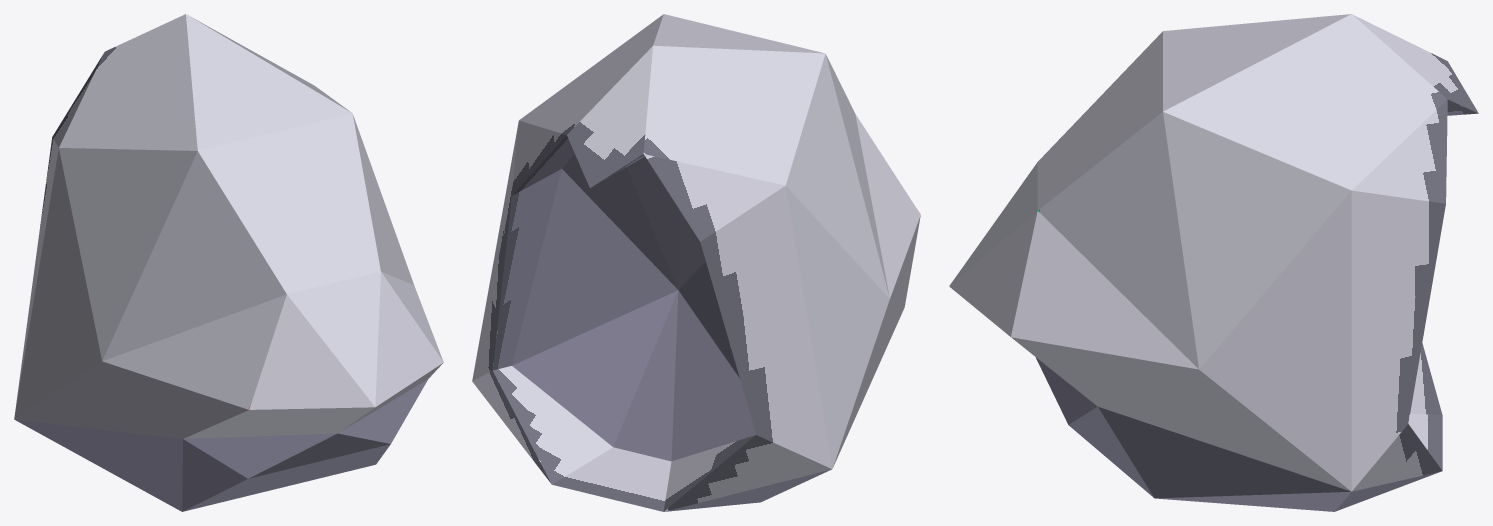
The model's file is robber-hood.glb.
The picture shows the model from 3 angles, left to right: view 1: azimuth 30°, elevation 25°; view 2: azimuth 150°, elevation 25°; view 3: azimuth 270°, elevation 25°; orthographic projection. The views are drawn at different scales.
Visible parts, largest first — view 1: plane_0; view 2: plane_0; view 3: plane_0.
Part boxes in pixels (x1,y1,x2,y2): plane_0: (14, 14, 443, 511); plane_0: (472, 14, 920, 511); plane_0: (949, 14, 1478, 511).
Bounding box in the file's own units: 0.8438 × 0.9816 × 1.05.
Materials: 1 (1 with a texture image).
